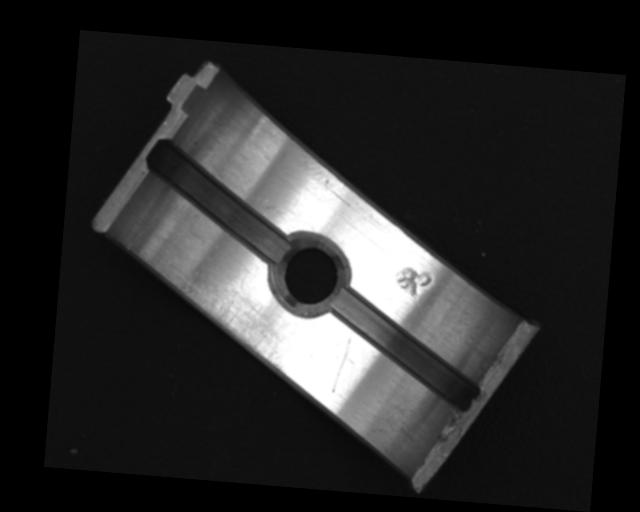bruise: (391, 265, 434, 303)
gap: (138, 138, 300, 264), (323, 289, 487, 411)
hole: (266, 227, 353, 317)
nick: (330, 333, 353, 394)
scratch: (168, 264, 296, 375)
